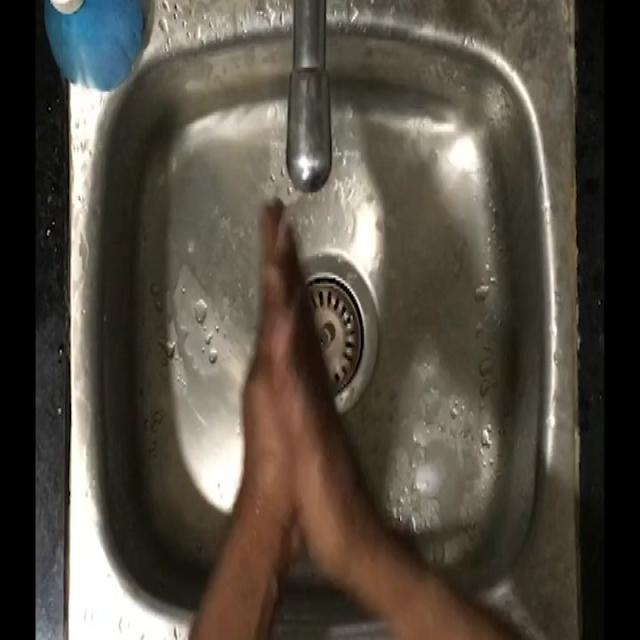step_1: (225, 174, 359, 514)
